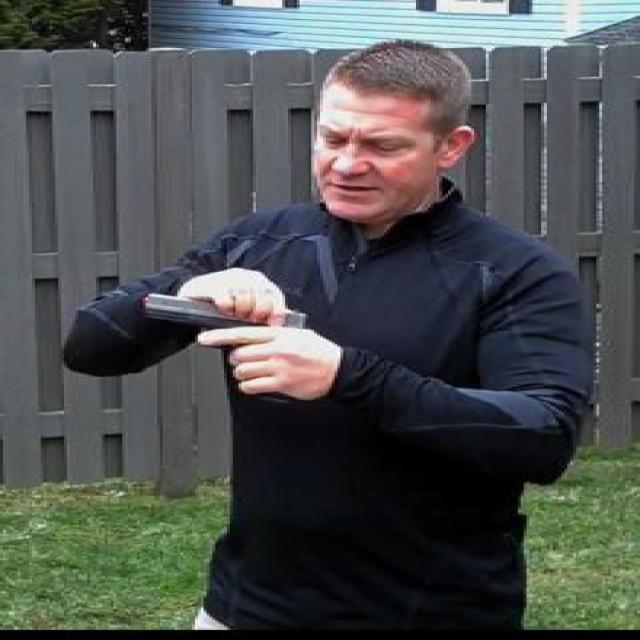weapon: (138, 292, 309, 408)
